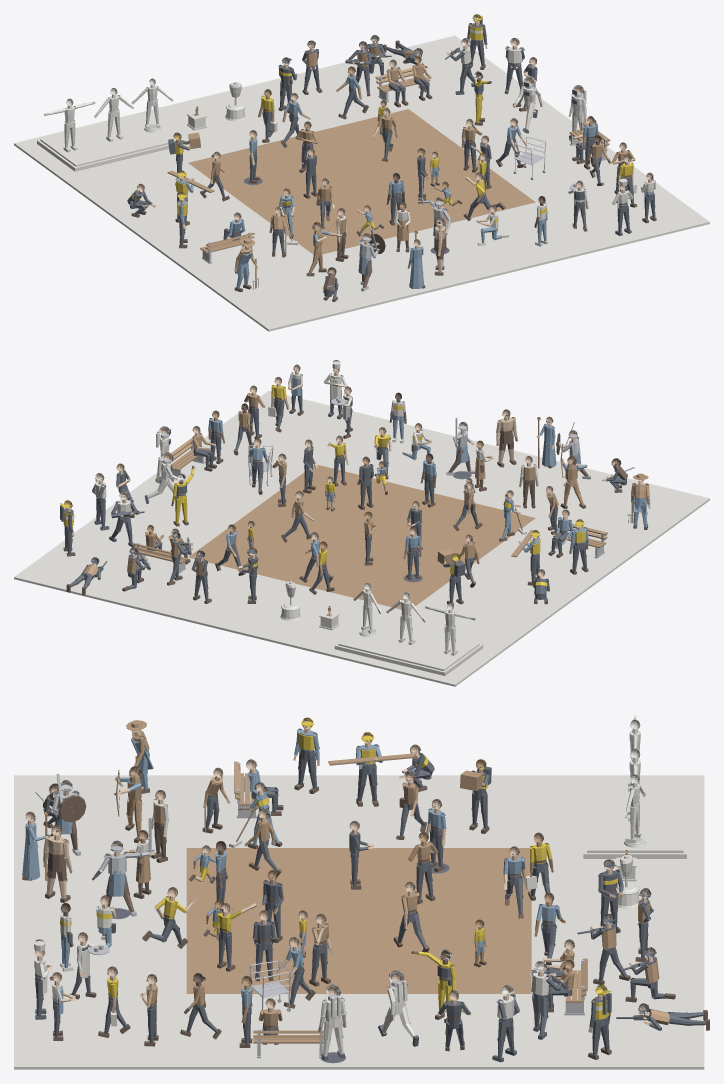
The picture shows the model from 3 angles, top to bottom: view 1: azimuth 30°, elevation 25°; view 2: azimuth 150°, elevation 25°; view 3: azimuth 270°, elevation 25°; orthographic projection. The views are drawn at different scales.
Parts seen in each view (by area): view 1: 003-plaza-paving-square/0, 011-plaza-paving-square/0, 009-plaza-paving-square/0, 001-plaza-paving-square/0, 015-plaza-paving-square/0, 005-plaza-paving-square/0, 002-plaza-paving-square/0, 007-plaza-paving-square/0, 013-plaza-paving-square/0, 008-plaza-paving-square/0, 010-plaza-paving-square/0, 014-plaza-paving-square/0 (+12 smaller); view 2: 008-plaza-paving-square/0, 001-plaza-paving-square/0, 003-plaza-paving-square/0, 012-plaza-paving-square/0, 005-plaza-paving-square/0, 010-plaza-paving-square/0, 009-plaza-paving-square/0, 004-plaza-paving-square/0, 006-plaza-paving-square/0, 002-plaza-paving-square/0, 013-plaza-paving-square/0, 015-plaza-paving-square/0 (+13 smaller); view 3: 015-plaza-paving-square/0, 009-plaza-paving-square/0, 013-plaza-paving-square/0, 012-plaza-paving-square/0, 005-plaza-paving-square/0, 006-plaza-paving-square/0, 001-plaza-paving-square/0, 011-plaza-paving-square/0, 014-plaza-paving-square/0, 002-plaza-paving-square/0, 010-plaza-paving-square/0, 003-plaza-paving-square/0 (+29 smaller).
Part boxes in pixels (x1,y1,x2,y2): 003-plaza-paving-square/0: (205, 256, 378, 331); 011-plaza-paving-square/0: (426, 202, 599, 277); 009-plaza-paving-square/0: (302, 109, 471, 182); 001-plaza-paving-square/0: (77, 163, 251, 237); 015-plaza-paving-square/0: (536, 175, 709, 250); 005-plaza-paving-square/0: (188, 136, 361, 209); 002-plaza-paving-square/0: (141, 209, 313, 284); 007-plaza-paving-square/0: (322, 229, 489, 304); 013-plaza-paving-square/0: (409, 82, 579, 154); 008-plaza-paving-square/0: (240, 62, 407, 134); 010-plaza-paving-square/0: (362, 156, 535, 228); 014-plaza-paving-square/0: (476, 129, 645, 202); 008-plaza-paving-square/0: (124, 557, 297, 632); 001-plaza-paving-square/0: (410, 565, 582, 639); 003-plaza-paving-square/0: (536, 471, 709, 546); 012-plaza-paving-square/0: (14, 530, 183, 605); 005-plaza-paving-square/0: (298, 538, 466, 609); 010-plaza-paving-square/0: (252, 464, 424, 537); 009-plaza-paving-square/0: (188, 511, 361, 584); 004-plaza-paving-square/0: (234, 584, 401, 659); 006-plaza-paving-square/0: (362, 492, 535, 563); 002-plaza-paving-square/0: (472, 518, 646, 592); 013-plaza-paving-square/0: (78, 484, 251, 556); 015-plaza-paving-square/0: (205, 391, 378, 463); 015-plaza-paving-square/0: (14, 994, 186, 1069); 009-plaza-paving-square/0: (359, 921, 531, 993); 013-plaza-paving-square/0: (359, 994, 531, 1069); 012-plaza-paving-square/0: (531, 994, 704, 1069); 005-plaza-paving-square/0: (359, 848, 531, 920); 006-plaza-paving-square/0: (186, 848, 358, 920); 001-plaza-paving-square/0: (359, 775, 531, 847); 011-plaza-paving-square/0: (14, 921, 186, 993); 014-plaza-paving-square/0: (186, 994, 358, 1069); 002-plaza-paving-square/0: (186, 775, 358, 847); 010-plaza-paving-square/0: (186, 921, 358, 993); 003-plaza-paving-square/0: (14, 775, 186, 847).
Bounding box in the file's own units: 16 × 2.41 × 16.13.
